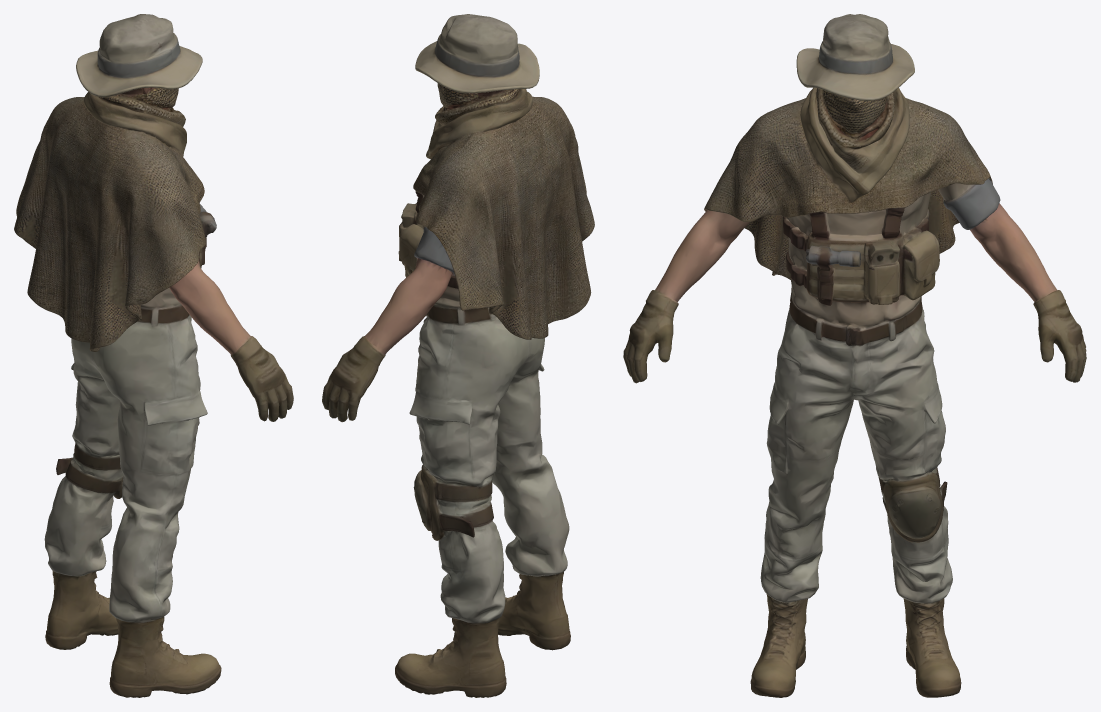
File: sniper_karakter.glb
3 views of the same model, side by side, from view 1: azimuth 30°, elevation 25°; view 2: azimuth 150°, elevation 25°; view 3: azimuth 270°, elevation 25° (orthographic). The views are drawn at different scales.
Visible parts, largest first — view 1: tripo_node_38efb996-4882-4ced-9d61-3e87a64b8dcb; view 2: tripo_node_38efb996-4882-4ced-9d61-3e87a64b8dcb; view 3: tripo_node_38efb996-4882-4ced-9d61-3e87a64b8dcb.
Part boxes in pixels (box(x1,y1,x2,y2)): tripo_node_38efb996-4882-4ced-9d61-3e87a64b8dcb: box(14, 14, 293, 697); tripo_node_38efb996-4882-4ced-9d61-3e87a64b8dcb: box(322, 14, 594, 697); tripo_node_38efb996-4882-4ced-9d61-3e87a64b8dcb: box(623, 14, 1086, 697).
Bounding box in the file's own units: 0.2357 × 1 × 0.6301.
Materials: 1 (1 with a texture image).
